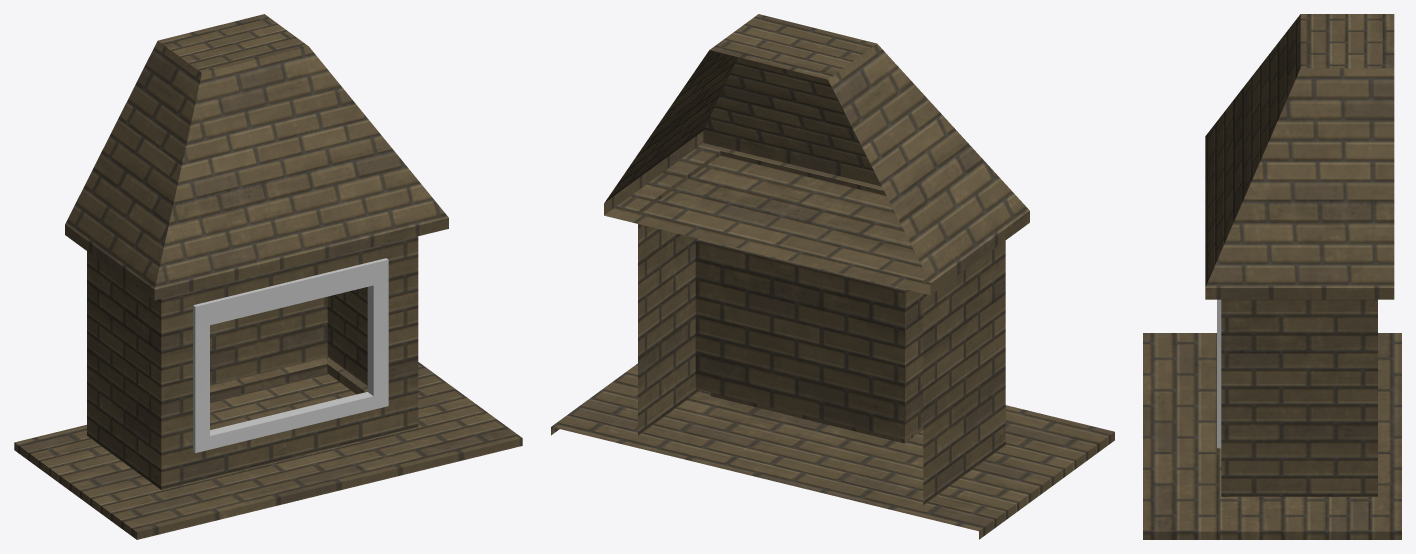
The model's file is fireplace2.fbx.
3 views of the same model, side by side, from view 1: azimuth 30°, elevation 25°; view 2: azimuth 150°, elevation 25°; view 3: azimuth 270°, elevation 25° (orthographic). The views are drawn at different scales.
Parts seen in each view (by area): view 1: polySurface999; view 2: polySurface999; view 3: polySurface999.
Part boxes in pixels (left/top/right/bottom): polySurface999: left=14, top=14, right=522, bottom=539; polySurface999: left=551, top=14, right=1114, bottom=539; polySurface999: left=1143, top=14, right=1401, bottom=539.
Bounding box in the file's own units: 300 × 282 × 165.
